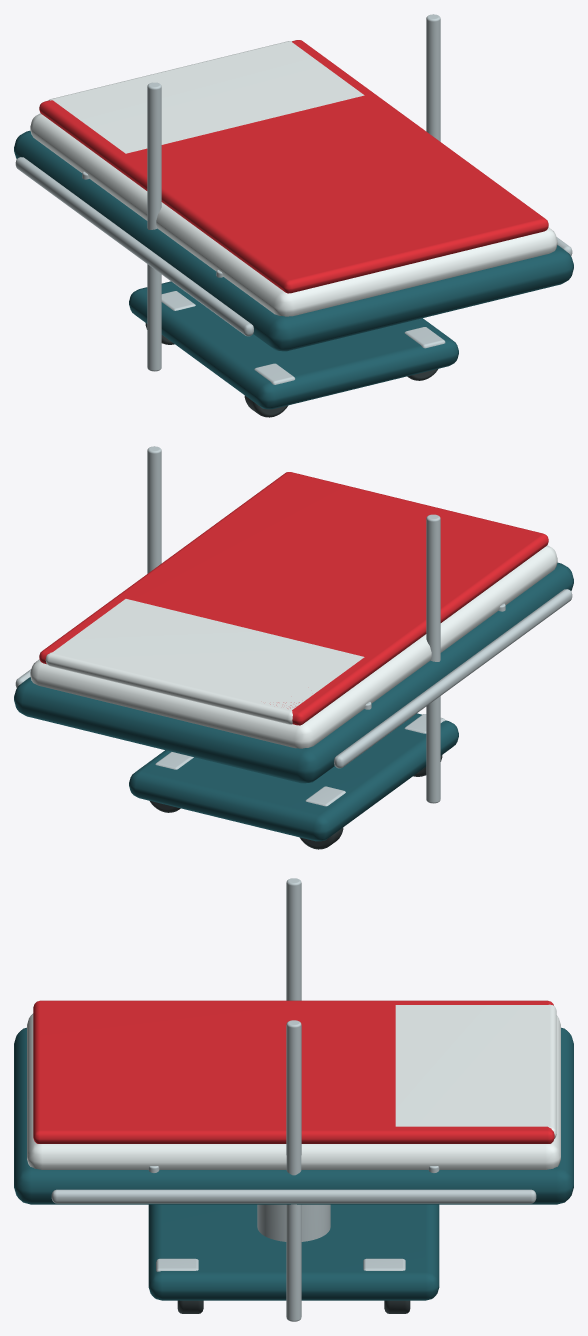
File: Camilla_Emergencia.fbx
3 renders of one model, top to bottom at view 1: azimuth 30°, elevation 25°; view 2: azimuth 150°, elevation 25°; view 3: azimuth 270°, elevation 25°, orthographic. The views are drawn at different scales.
Visible parts, largest first — view 1: Colchon_de_emergencia, Bastidor_superior, Seccion_de_piernas, Base_movil, Colchon_segmentado, Riel_lateral, Barandal_lateral, Barandal_lateral_Parte_02, Pedal_de_freno_Parte_03, Pedal_de_freno; view 2: Colchon_de_emergencia, Seccion_de_piernas, Bastidor_superior, Base_movil, Colchon_segmentado, Riel_lateral, Barandal_lateral, Barandal_lateral_Parte_02; view 3: Colchon_de_emergencia, Base_movil, Seccion_de_piernas, Bastidor_superior, Colchon_segmentado, Riel_lateral_Parte_02, Barandal_lateral_Parte_02, Columna_hidraulica, Barandal_lateral.
Part boxes in pixels (<box>): Colchon_de_emergencia: <box>39,40,548,293</box>; Bastidor_superior: <box>14,130,573,351</box>; Seccion_de_piernas: <box>48,41,364,153</box>; Base_movil: <box>129,281,458,409</box>; Colchon_segmentado: <box>30,113,557,316</box>; Riel_lateral: <box>15,157,253,336</box>; Barandal_lateral: <box>147,82,161,371</box>; Barandal_lateral_Parte_02: <box>426,14,440,141</box>; Pedal_de_freno_Parte_03: <box>404,327,445,348</box>; Pedal_de_freno: <box>254,363,295,384</box>; Colchon_de_emergencia: <box>39,472,548,725</box>; Seccion_de_piernas: <box>45,599,364,724</box>; Bastidor_superior: <box>14,562,573,783</box>; Base_movil: <box>129,713,458,841</box>; Colchon_segmentado: <box>30,545,557,748</box>; Riel_lateral: <box>334,589,572,768</box>; Barandal_lateral: <box>426,514,440,803</box>; Barandal_lateral_Parte_02: <box>147,446,161,573</box>; Colchon_de_emergencia: <box>33,1000,554,1143</box>; Base_movil: <box>148,1204,439,1300</box>; Seccion_de_piernas: <box>395,1004,556,1138</box>; Bastidor_superior: <box>14,1027,573,1204</box>; Colchon_segmentado: <box>27,1013,560,1169</box>; Riel_lateral_Parte_02: <box>51,1189,536,1203</box>; Barandal_lateral_Parte_02: <box>286,1020,301,1321</box>; Columna_hidraulica: <box>257,1204,330,1241</box>; Barandal_lateral: <box>286,878,301,1000</box>.
Bounding box in the file's own units: 1.83 × 1.65 × 2.6.
